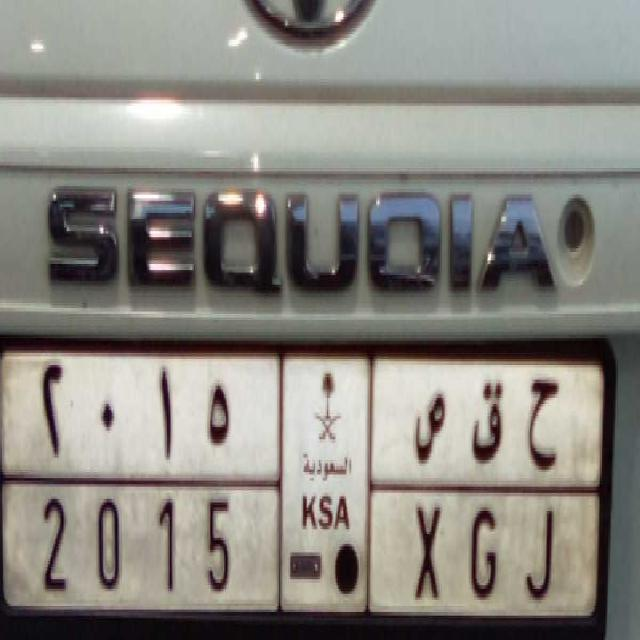license_plate: (11, 470, 575, 620)
